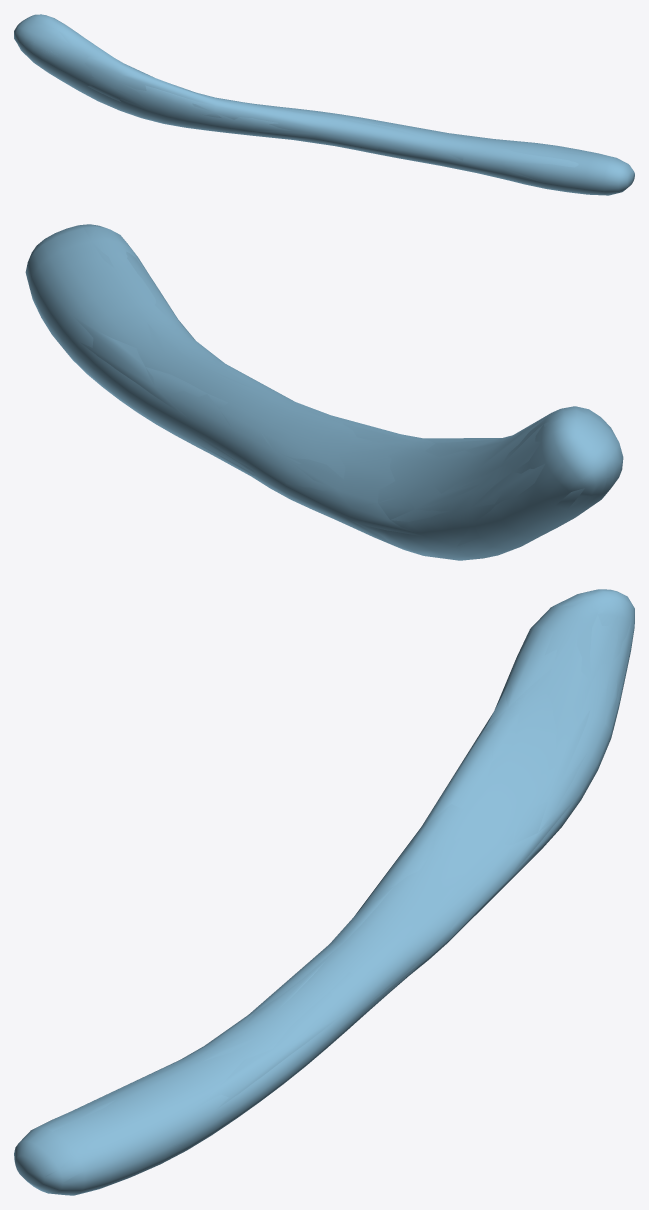
3 views of the same model, one above another, from view 1: azimuth 30°, elevation 25°; view 2: azimuth 150°, elevation 25°; view 3: azimuth 270°, elevation 25° (orthographic). The views are drawn at different scales.
Visible parts, largest first — view 1: CC R7, CC R7 low; view 2: CC R7, CC R7 low; view 3: CC R7, CC R7 low.
Boxes of the visible parts, x1,y1,x2,y2 form: CC R7: (14, 14, 634, 195); CC R7 low: (15, 15, 631, 193); CC R7: (25, 224, 623, 560); CC R7 low: (28, 225, 621, 558); CC R7: (14, 589, 634, 1195); CC R7 low: (27, 589, 630, 1182).
Bounding box in the file's own units: 16.96 × 5.73 × 12.01.
